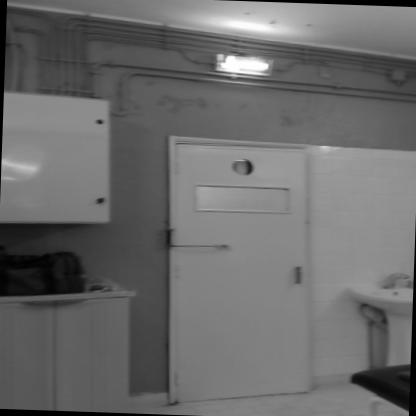closed: (140, 128, 322, 404)
